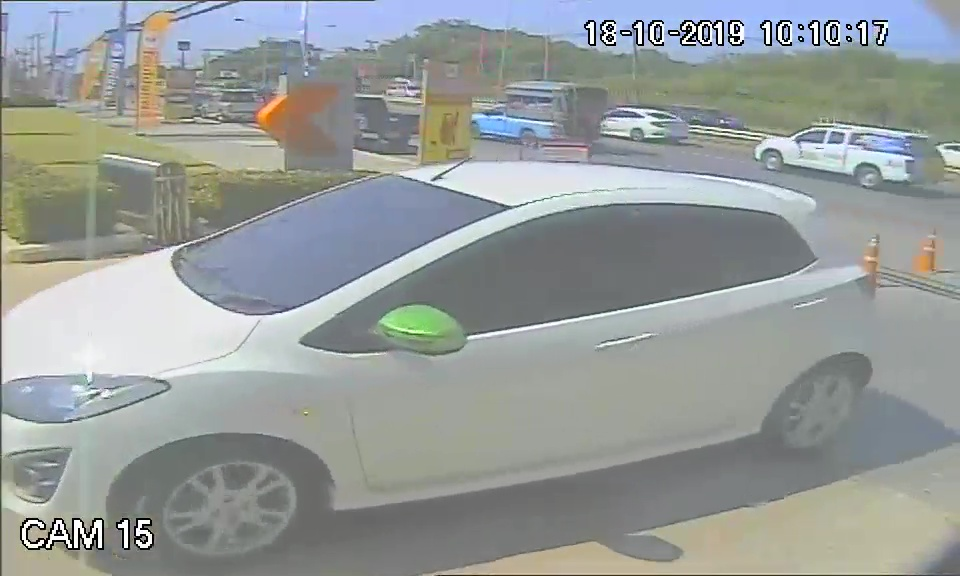sedan: (12, 157, 875, 533)
